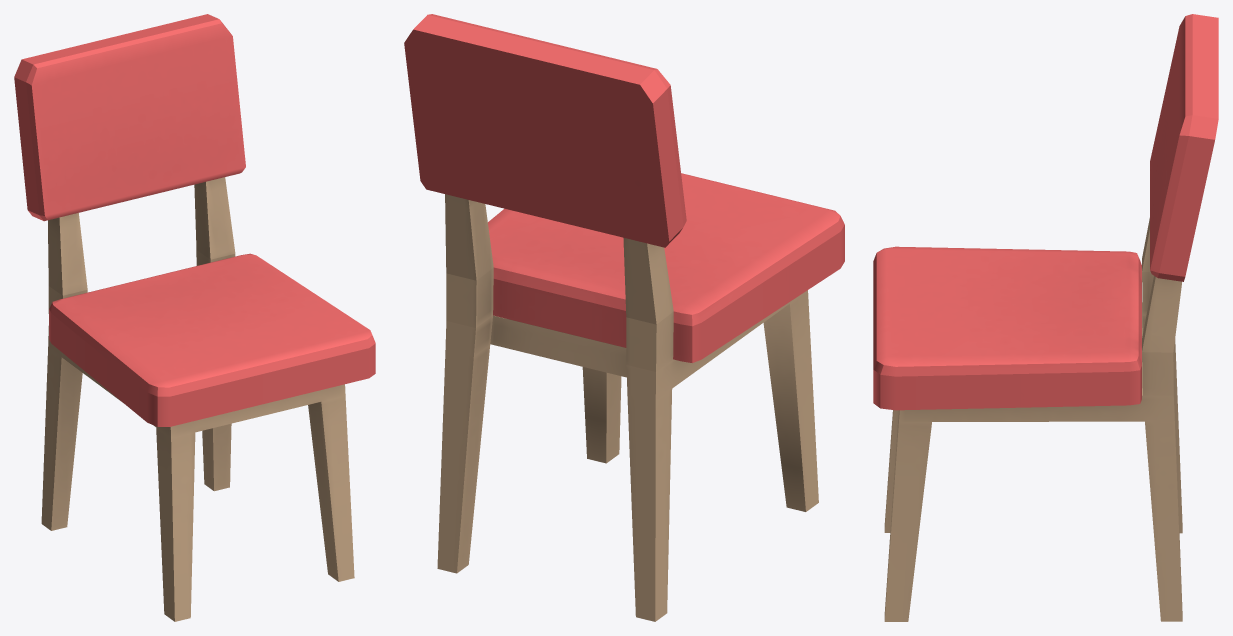
Rendered from Chiar_Red.fbx.
3 renders of one model, left to right at view 1: azimuth 30°, elevation 25°; view 2: azimuth 150°, elevation 25°; view 3: azimuth 270°, elevation 25°, orthographic. The views are drawn at different scales.
Visible parts, largest first — view 1: Chair_Red; view 2: Chair_Red; view 3: Chair_Red.
Boxes of the visible parts, x1,y1,x2,y2 form: Chair_Red: [14, 14, 375, 621]; Chair_Red: [404, 14, 844, 621]; Chair_Red: [873, 14, 1218, 621].
Size of the model in its own units: 48.17 by 93.48 by 57.54.
